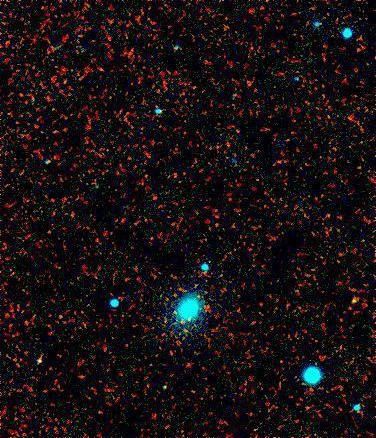star: (337, 286, 367, 316)
